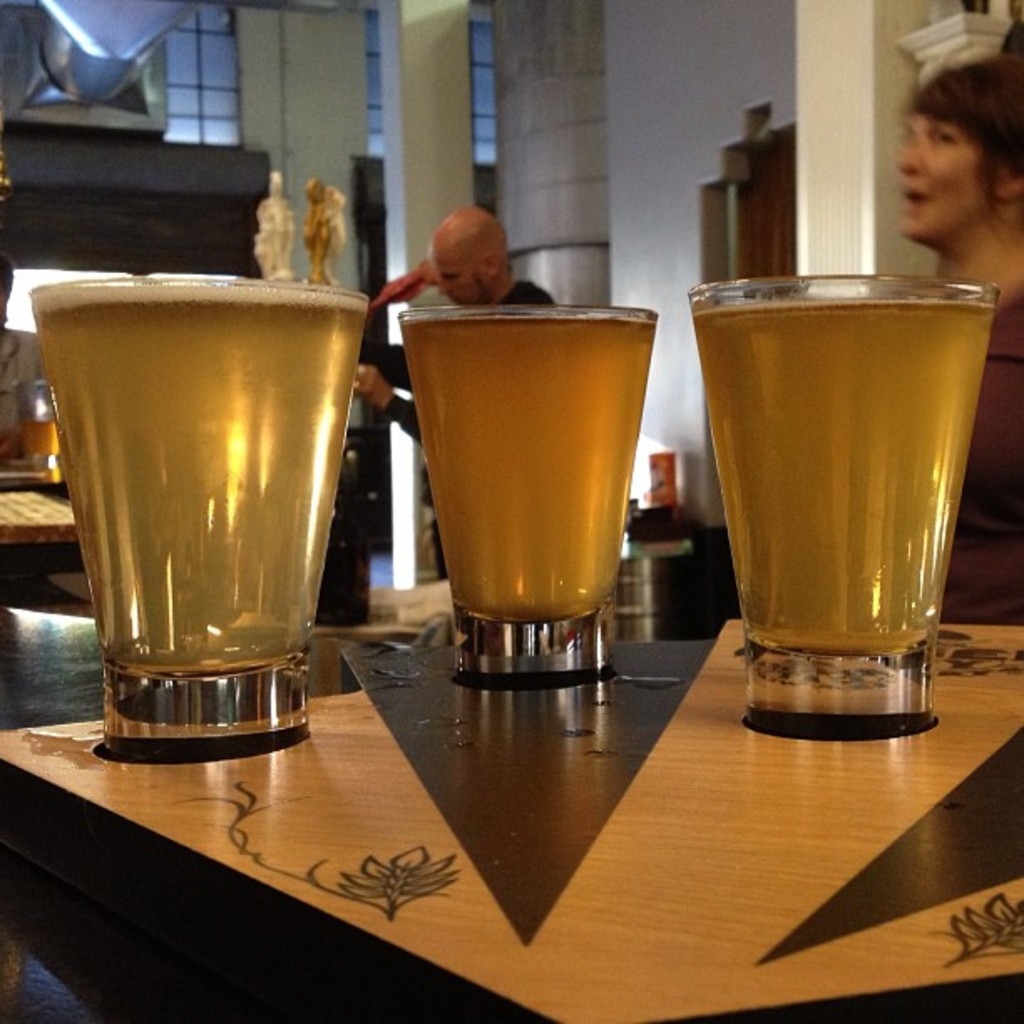Beer: (33, 261, 369, 762), (679, 272, 985, 734), (391, 301, 659, 682)
